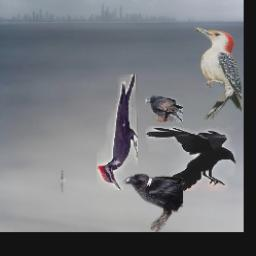Crow: (147, 126, 236, 191), (123, 173, 183, 232), (146, 96, 184, 122)
Woodpecker: (97, 75, 138, 191), (192, 26, 243, 119)
